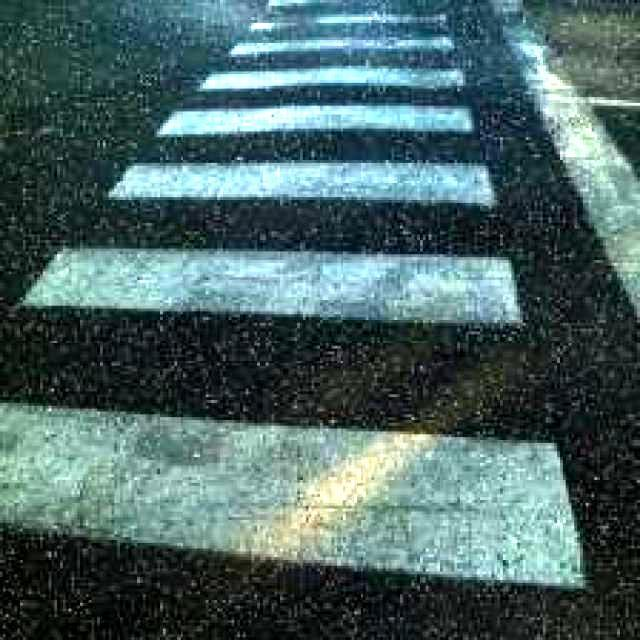crosswalk: (0, 2, 629, 639)
